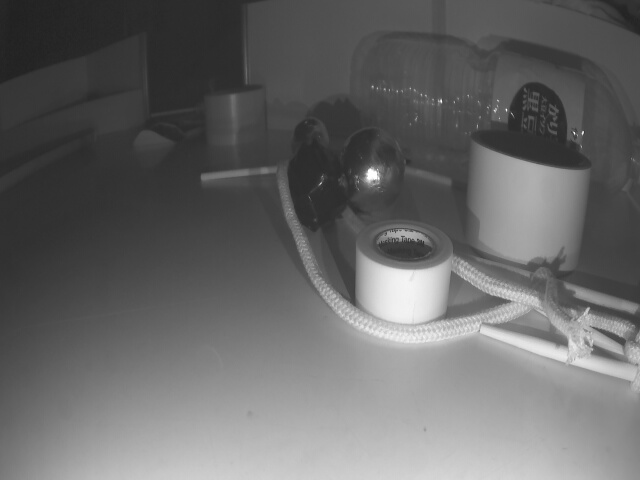Dead: (291, 145, 342, 221)
Live: (346, 129, 403, 207)
